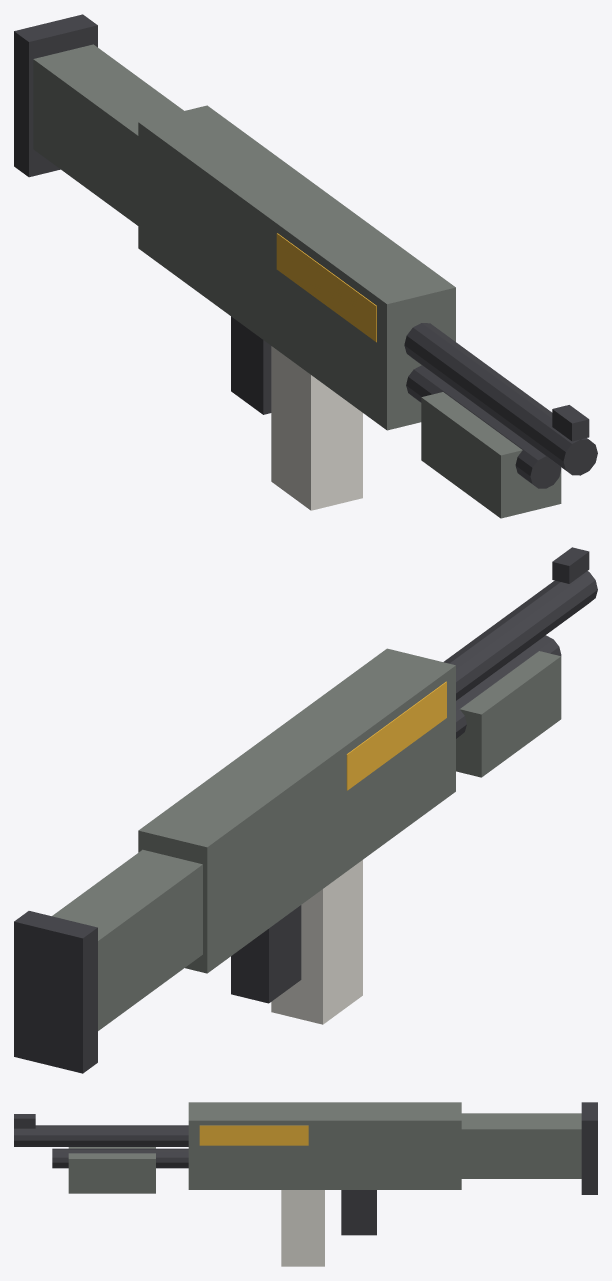
Rendered from weapon_F1_Shotgun.glb.
The picture shows the model from 3 angles, top to bottom: view 1: azimuth 30°, elevation 25°; view 2: azimuth 150°, elevation 25°; view 3: azimuth 270°, elevation 25°; orthographic projection. The views are drawn at different scales.
Visible parts, largest first — view 1: Body, Mag; view 2: Body, Mag; view 3: Body, Mag.
Part boxes in pixels (x1,y1,x2,y2): Body: (14, 14, 597, 518); Mag: (271, 346, 362, 510); Body: (14, 547, 597, 1073); Mag: (271, 860, 362, 1024); Body: (14, 1102, 597, 1235); Mag: (281, 1190, 324, 1266).
Size of the model in its own units: 0.082 by 0.3 by 1.07.
